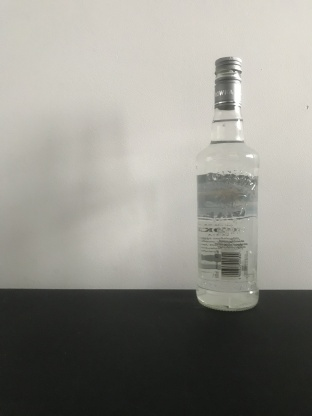nakretka: (213, 54, 243, 110)
